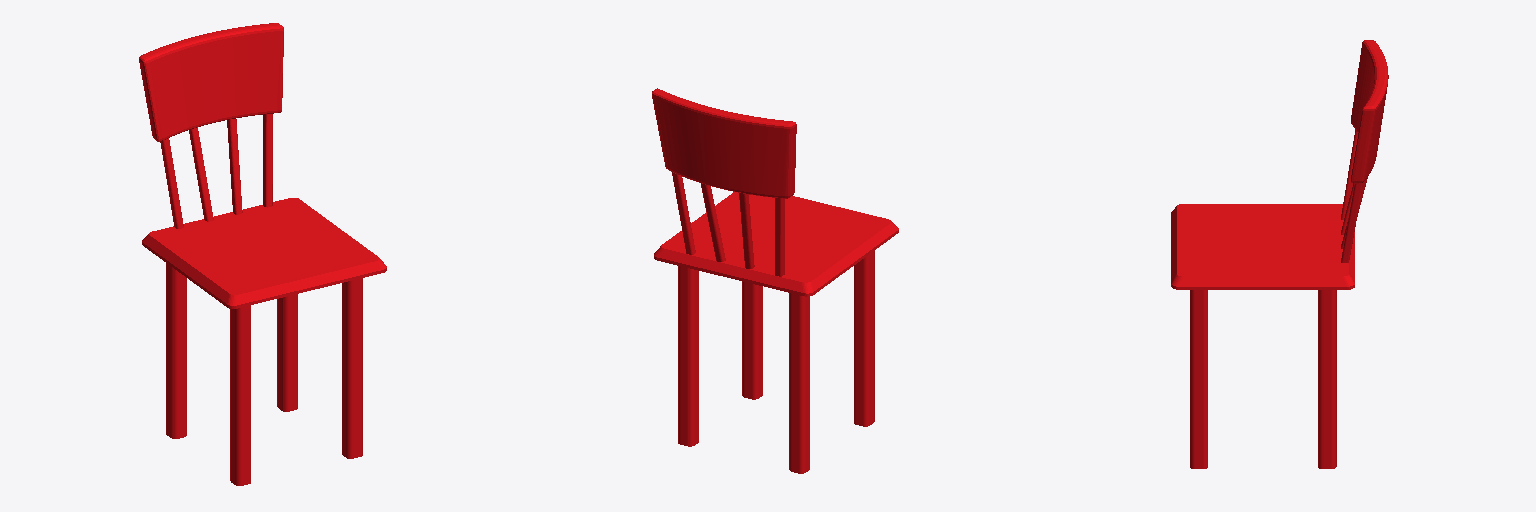
The model's file is chair05.obj.
3 renders of one model, left to right at view 1: azimuth 30°, elevation 25°; view 2: azimuth 150°, elevation 25°; view 3: azimuth 270°, elevation 25°, orthographic.
Parts seen in each view (by area): view 1: Object.1; view 2: Object.1; view 3: Object.1.
Boxes of the visible parts, box(x1,y1,x2,y2) form: Object.1: box(139, 23, 386, 485); Object.1: box(652, 88, 898, 473); Object.1: box(1171, 40, 1388, 468).
Bounding box in the file's own units: 451 × 990 × 534.